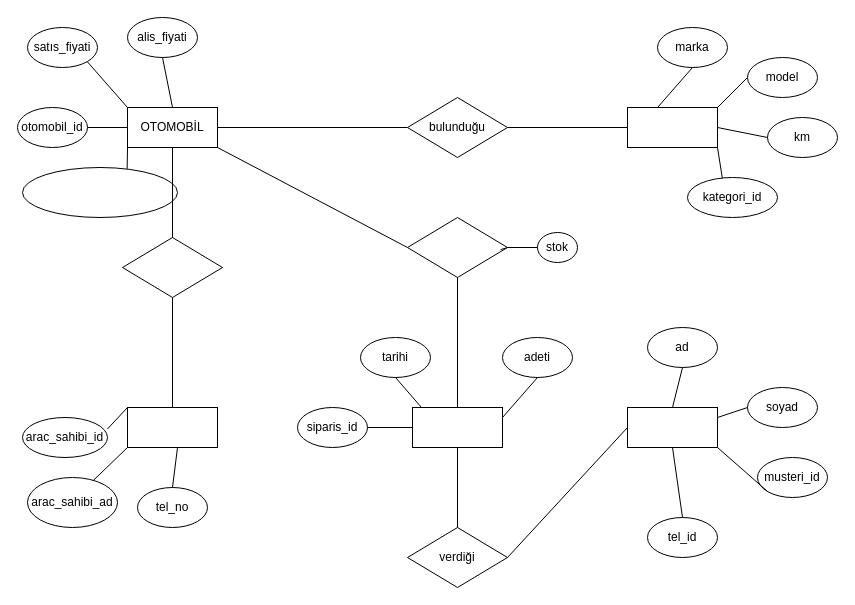
Some shapes in this 855 by 605 pixel diagram are drawn without their labels. The centre of each missing label's shape, as x and y in pixels:
alıcı: point 672,427
ARAÇ SAHİBİ: point 172,427
elinde olan: point 172,267
kategori: point 672,127
otomobil_sase_numarası: point 100,192
sipariş: point 457,427
yer aldığı: point 457,247
